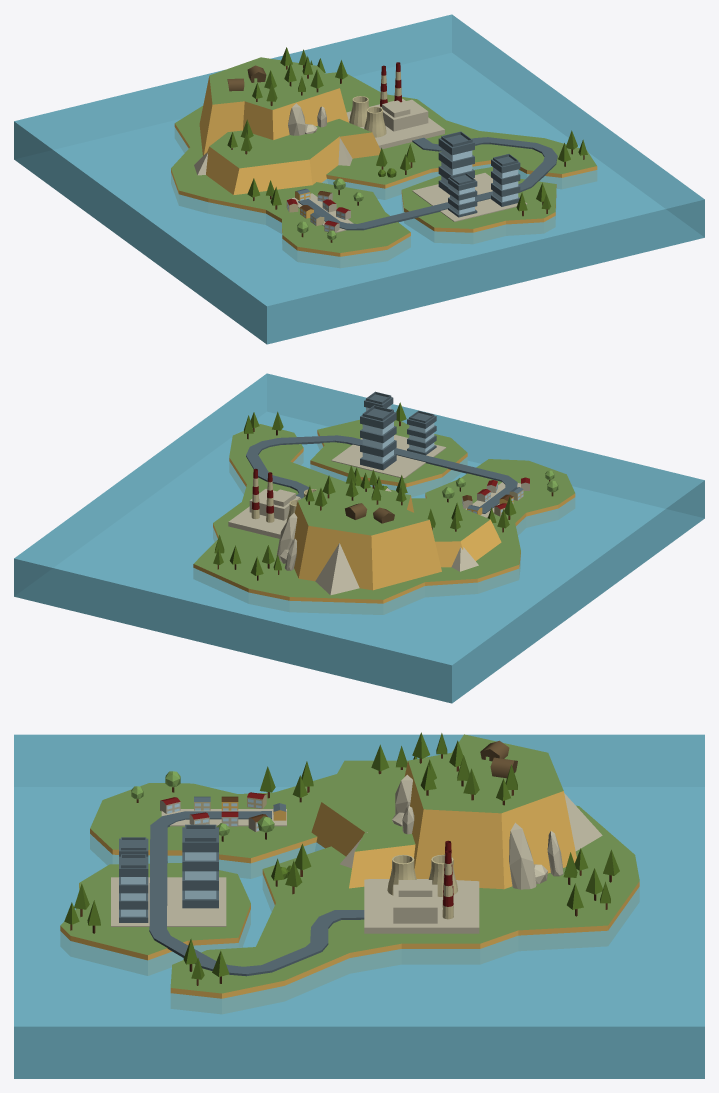
3 views of the same model, one above another, from view 1: azimuth 30°, elevation 25°; view 2: azimuth 150°, elevation 25°; view 3: azimuth 270°, elevation 25° (orthographic). The views are drawn at different scales.
Parts seen in each view (by area): view 1: Water, Landscape.1, Large_Mount, Small_Mount, walls (×3), Road, Cube.10, Cube.1, Cube, Tower; view 2: Water, Landscape.1, Small_Mount, Large_Mount, Road, walls (×2), Cube.10, rock.7, Cube, Cube.1, windows; view 3: Water, Landscape.1, Small_Mount, Large_Mount, Road, walls (×3), Cube, Cube.10, Cube.1, windows (×2), rock.4, rock.7 (+4 smaller).
Part boxes in pixels (x1,y1,x2,y2): Water: (14,14,704,344); Landscape.1: (171,72,597,267); Large_Mount: (206,119,380,194); Small_Mount: (199,57,349,155); walls (×3): (438,131,520,217); Road: (298,137,557,230); Cube.10: (412,173,527,221); Cube.1: (380,99,428,131); Cube: (346,98,444,149); Tower: (364,106,386,137); Water: (14,373,704,703); Landscape.1: (193,419,575,614); Small_Mount: (294,481,441,590); Large_Mount: (411,498,501,567); Road: (246,435,517,513); walls (×2): (360,405,436,470); Cube.10: (331,435,446,478); rock.7: (315,543,359,595); Cube: (228,498,300,538); Cube.1: (249,489,300,520); windows: (362,421,393,463); Water: (14,734,704,1078); Landscape.1: (60,774,639,1013); Small_Mount: (404,734,576,889); Large_Mount: (311,760,415,888); Road: (149,811,364,976); walls (×3): (119,824,218,922); Cube: (364,879,479,933); Cube.10: (111,877,226,926); Cube.1: (393,880,437,923); windows (×2): (121,852,216,916); rock.4: (509,822,536,889); rock.7: (564,793,602,851).
Size of the model in its own units: 1200 by 302 by 1200.
